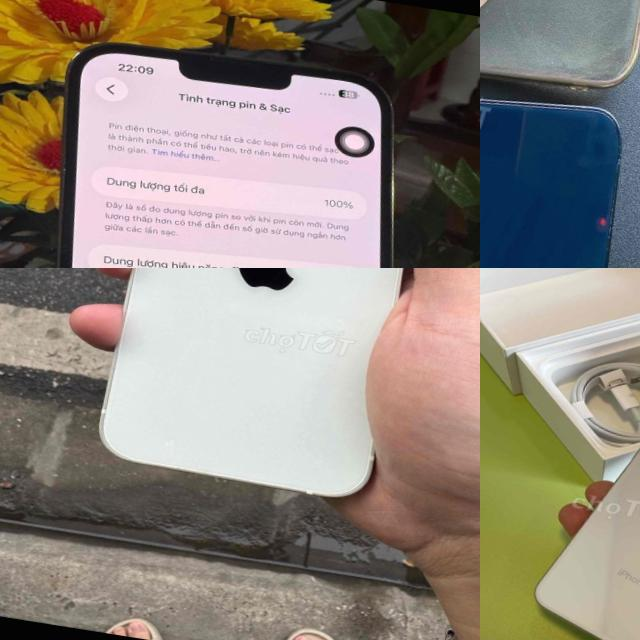gen_12_13: (0, 28, 463, 268), (89, 268, 449, 504), (480, 52, 639, 268)
gen_x_xs: (536, 447, 640, 640)
